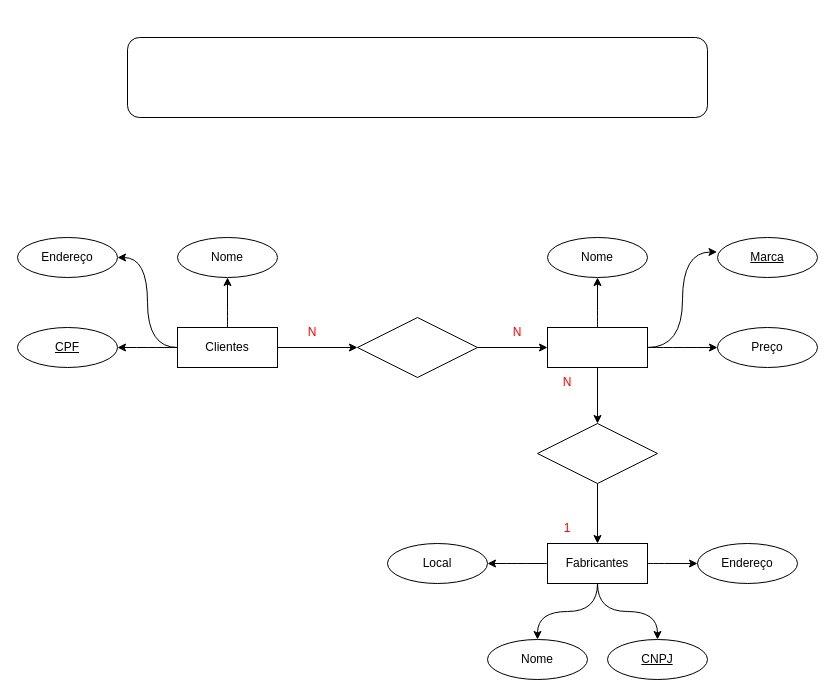
Image size: 835x697. Some labels were removed from this diagram. Each missing label, with the centre of its shape:
"Compra" belongs at (x=417, y=347).
"Diagrama - Exercício 8, Slide 2" belongs at (x=417, y=77).
"Fabrica" belongs at (x=597, y=453).
"Produto" belongs at (x=597, y=347).
